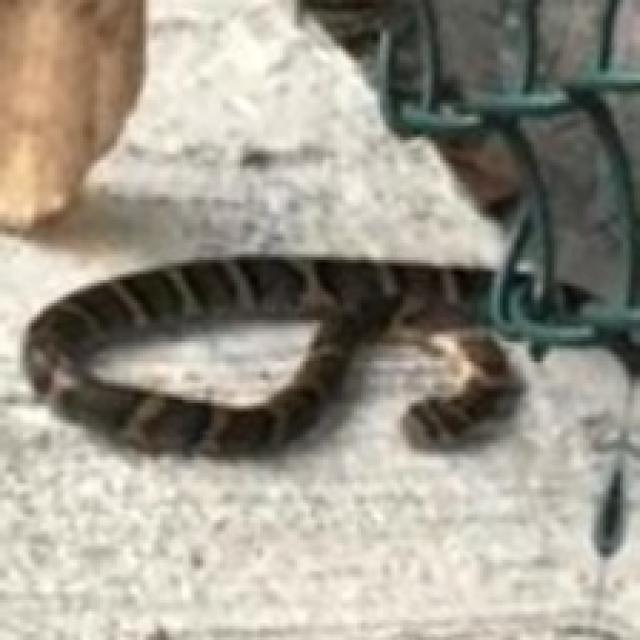king cobra: (23, 254, 483, 454), (423, 329, 520, 434)
